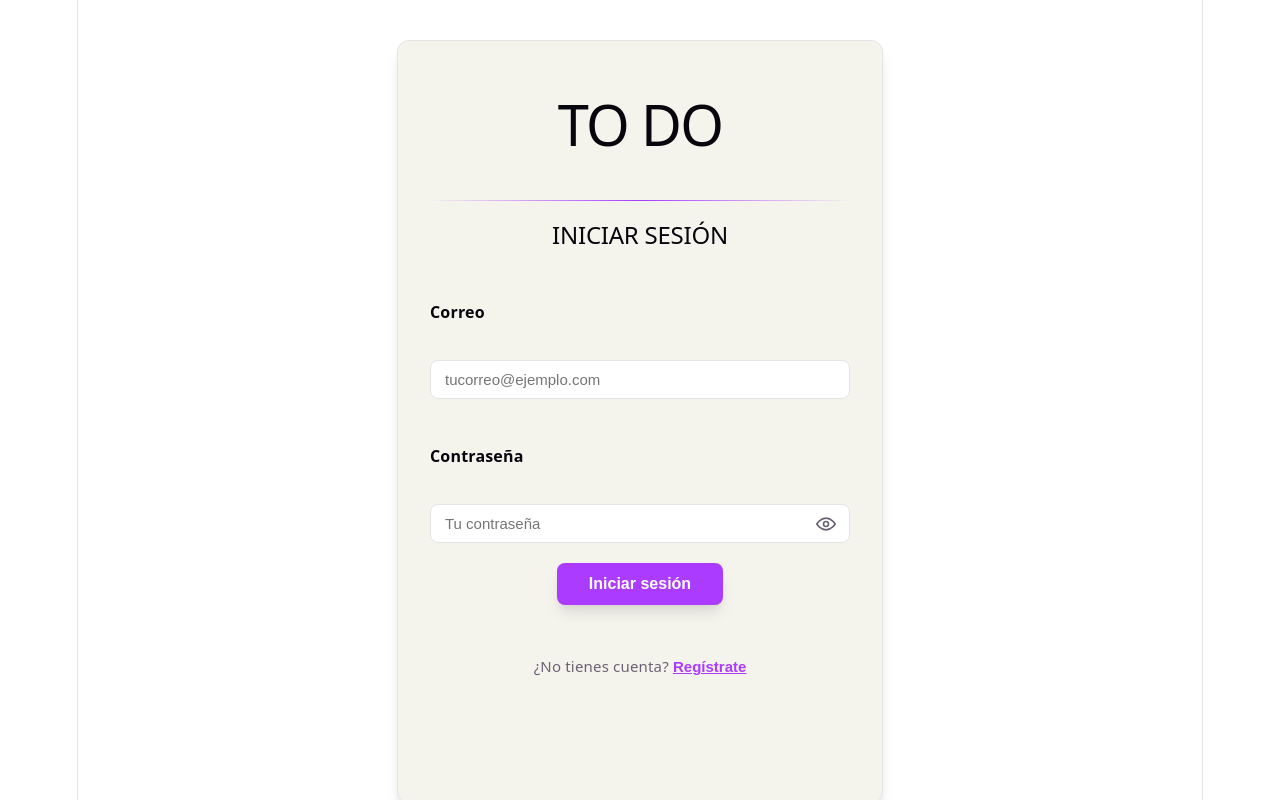
Test: App autenticada › tras iniciar sesión muestra el nombre y solo las tareas de la usuaria
The width and height of the screenshot is (1280, 800).
Type "ana@example.com" into the field labelled "Correo". click: {"x": 640, "y": 380}
box: [430,360,850,399]
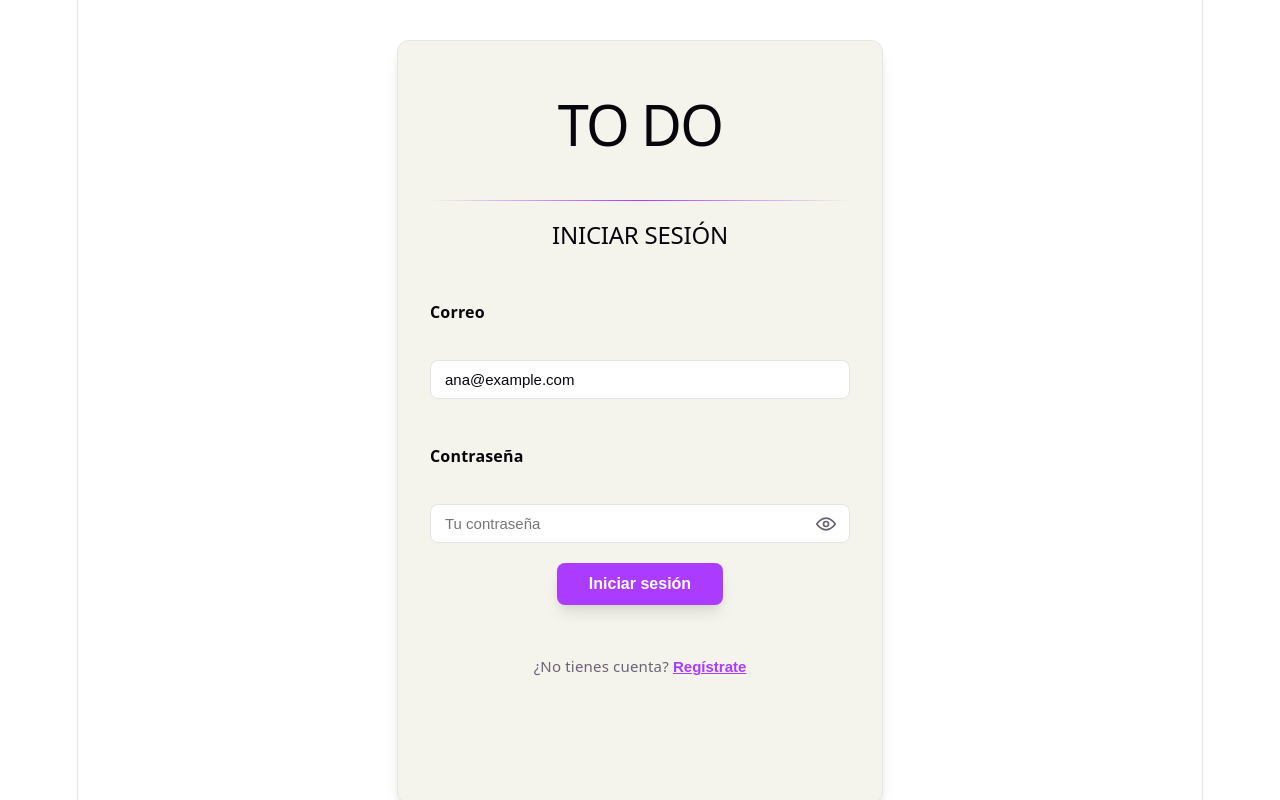
Type "ContrasenaDemo123!" into the password field labelled "Contraseña". click: {"x": 640, "y": 524}
box: [430,504,850,543]
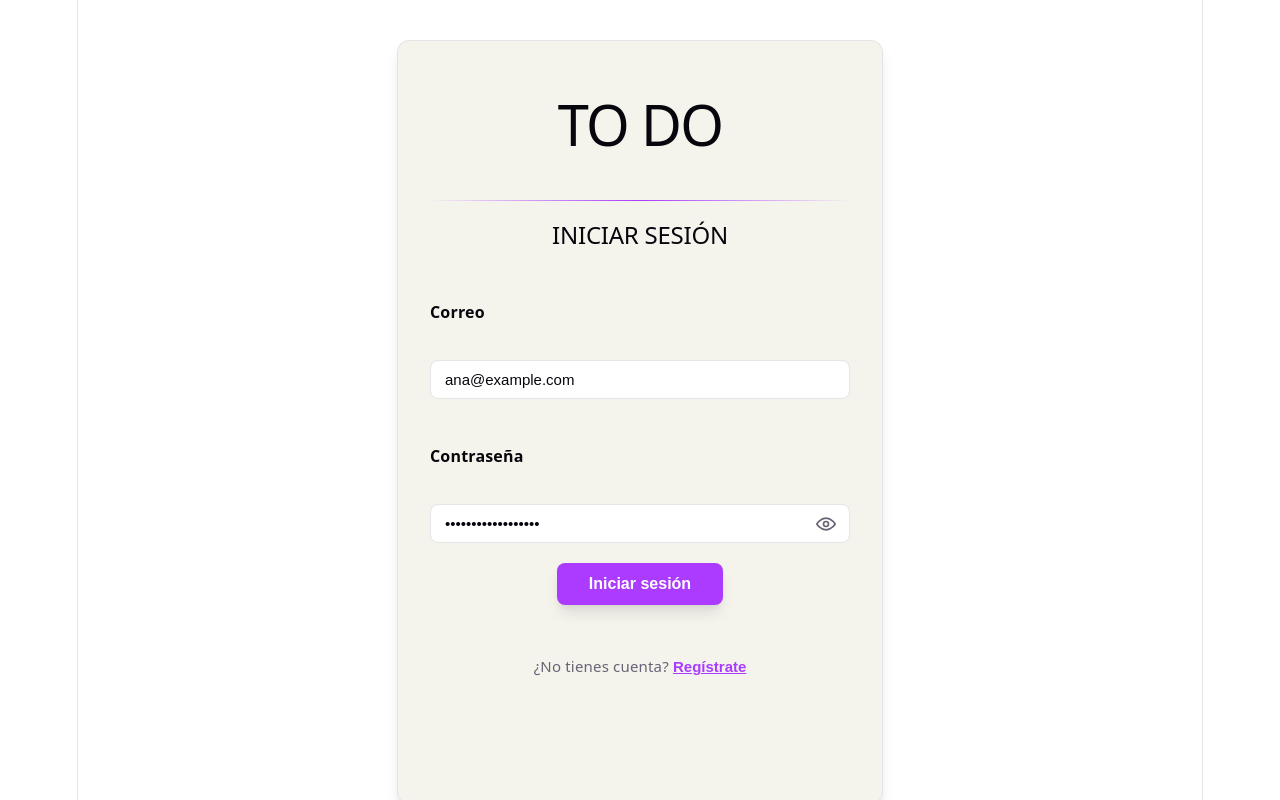
Click the button "Iniciar sesión". click: {"x": 640, "y": 584}
box: [557,563,723,605]
(page scrolled)
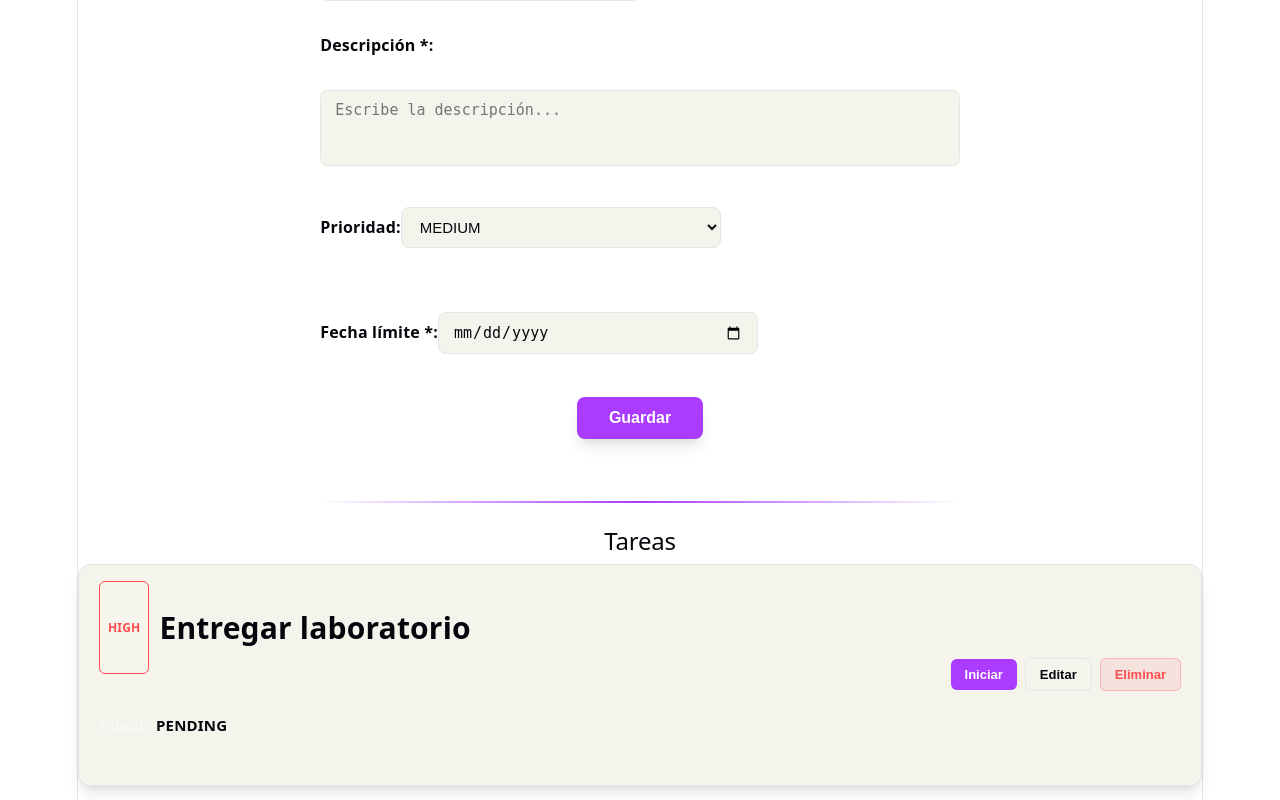
Result: the heading "Entregar laboratorio" is shown at [159,607,471,648]
